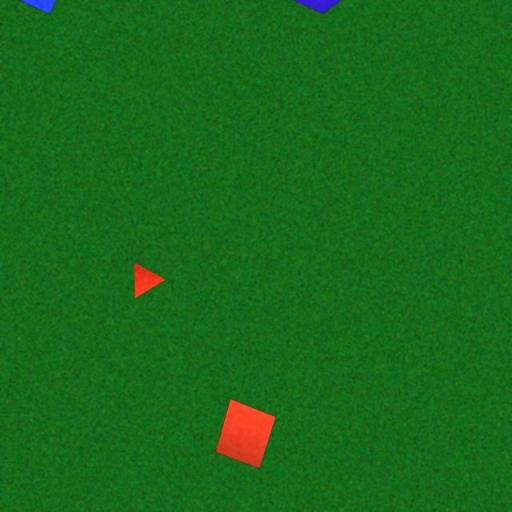RED_SQUARE: (214, 398, 277, 470)
